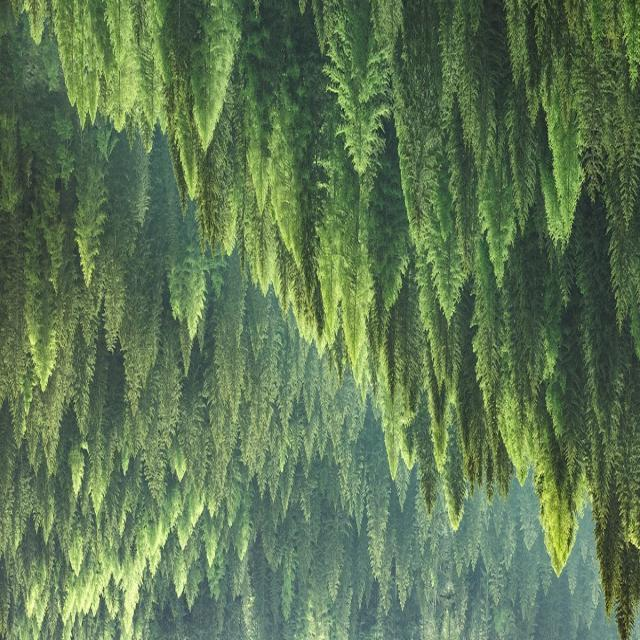tree: (396, 0, 442, 252), (331, 0, 389, 174), (504, 246, 544, 452), (582, 282, 626, 452), (188, 8, 228, 160), (120, 278, 163, 419), (547, 96, 585, 240), (339, 190, 368, 366), (478, 161, 514, 295), (504, 80, 536, 228), (4, 205, 28, 398), (75, 150, 109, 286), (170, 228, 206, 340), (612, 408, 640, 552), (471, 275, 502, 405), (374, 193, 408, 311), (395, 289, 425, 419), (538, 479, 578, 576), (608, 216, 640, 336), (427, 224, 465, 324), (273, 133, 303, 254), (425, 311, 463, 401), (41, 178, 68, 292), (29, 291, 59, 393), (67, 331, 96, 435), (594, 521, 622, 627), (502, 0, 534, 92), (245, 116, 273, 216), (318, 227, 342, 337), (56, 0, 80, 108), (458, 51, 482, 157), (366, 482, 392, 578), (616, 133, 640, 235), (224, 332, 248, 423), (104, 255, 126, 353), (587, 428, 609, 524), (321, 526, 347, 606), (395, 520, 417, 612), (442, 458, 468, 534), (275, 350, 297, 438), (106, 0, 134, 68), (248, 279, 270, 365), (176, 112, 198, 196), (104, 71, 132, 135), (428, 394, 452, 468), (202, 154, 222, 242), (205, 364, 225, 452), (132, 142, 152, 230), (228, 261, 248, 347), (170, 137, 190, 220), (138, 61, 162, 130), (382, 312, 398, 412), (418, 466, 442, 526), (259, 498, 281, 562), (518, 485, 538, 555), (301, 348, 319, 420), (383, 417, 401, 485), (354, 466, 370, 540), (300, 410, 320, 466), (9, 396, 29, 450), (394, 456, 412, 516), (68, 439, 86, 497), (518, 554, 532, 622), (85, 53, 98, 124), (178, 322, 194, 376), (26, 0, 42, 50), (491, 493, 505, 541), (568, 548, 580, 600), (174, 442, 188, 483), (76, 88, 88, 132), (124, 116, 136, 154), (153, 1, 165, 32)
